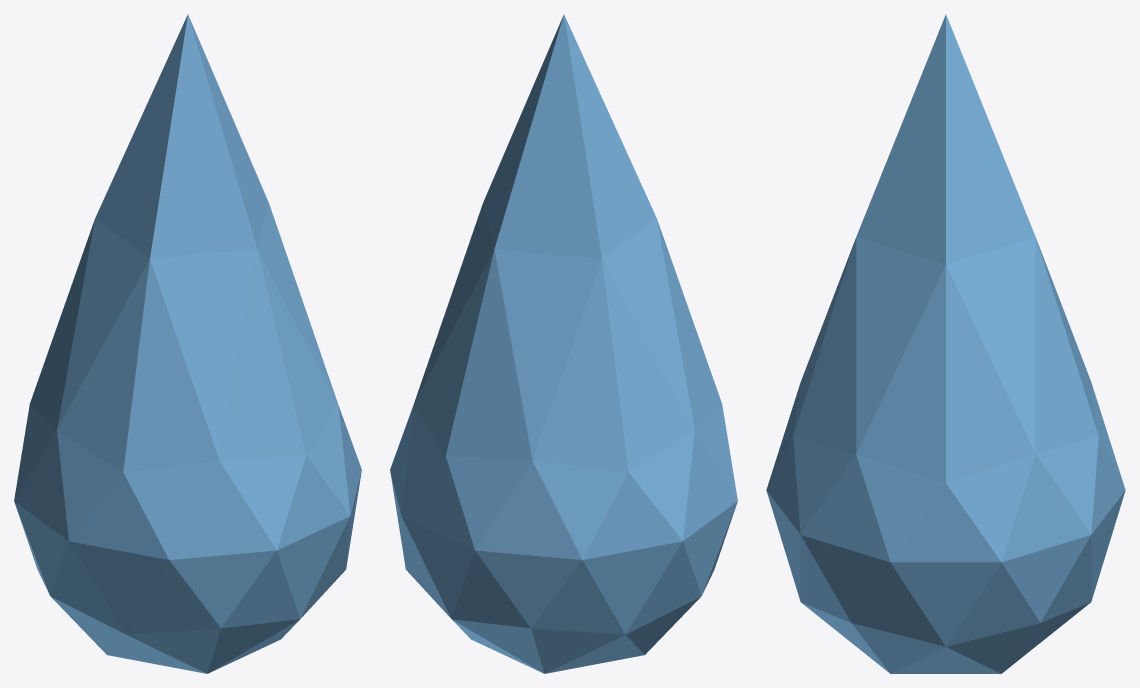
The model's file is raindrop.glb.
The picture shows the model from 3 angles, left to right: view 1: azimuth 30°, elevation 25°; view 2: azimuth 150°, elevation 25°; view 3: azimuth 270°, elevation 25°; orthographic projection.
Parts seen in each view (by area): view 1: raindrop; view 2: raindrop; view 3: raindrop.
Boxes of the visible parts, left/top/right/bottom form: raindrop: left=14, top=14, right=361, bottom=673; raindrop: left=390, top=14, right=737, bottom=673; raindrop: left=766, top=14, right=1125, bottom=673.
Size of the model in its own units: 0.2415 by 0.5117 by 0.254.
